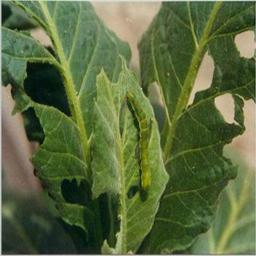Tobacco_budworm: (126, 88, 152, 193)
